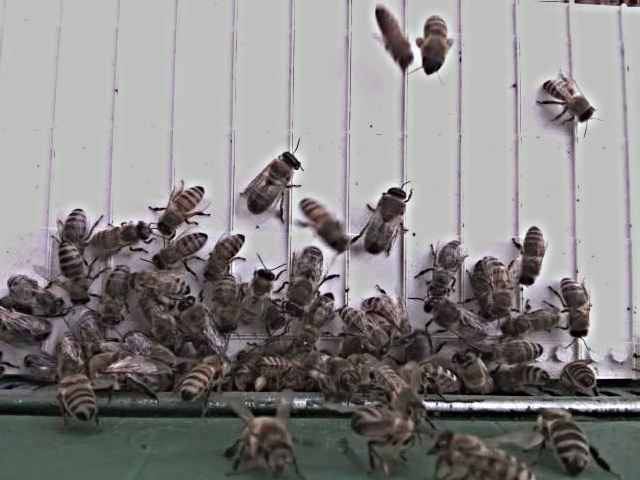Drone: (422, 291, 495, 348), (361, 182, 412, 256), (176, 290, 229, 361), (247, 148, 304, 214), (282, 242, 327, 317)
Worker: (148, 178, 213, 233), (89, 214, 155, 261), (96, 260, 138, 330), (540, 74, 598, 124), (56, 237, 93, 306), (558, 272, 595, 340), (204, 229, 250, 282), (301, 290, 339, 353), (344, 302, 389, 355), (153, 224, 207, 268), (240, 265, 278, 327), (485, 332, 553, 365), (178, 358, 227, 403), (365, 292, 417, 334), (517, 223, 550, 288), (429, 238, 464, 297), (499, 304, 561, 337), (212, 268, 241, 336), (486, 251, 515, 312)
